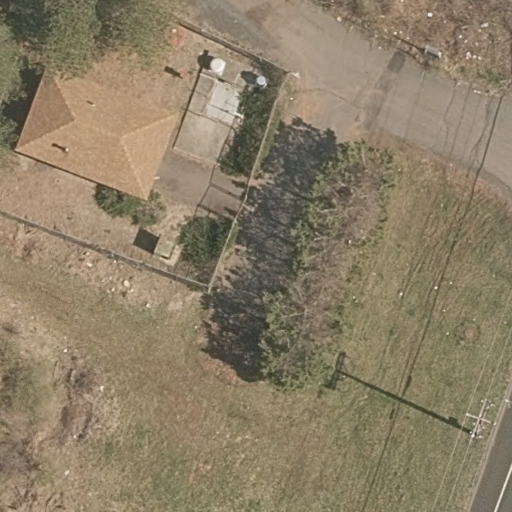DT: (462, 385, 506, 453)
